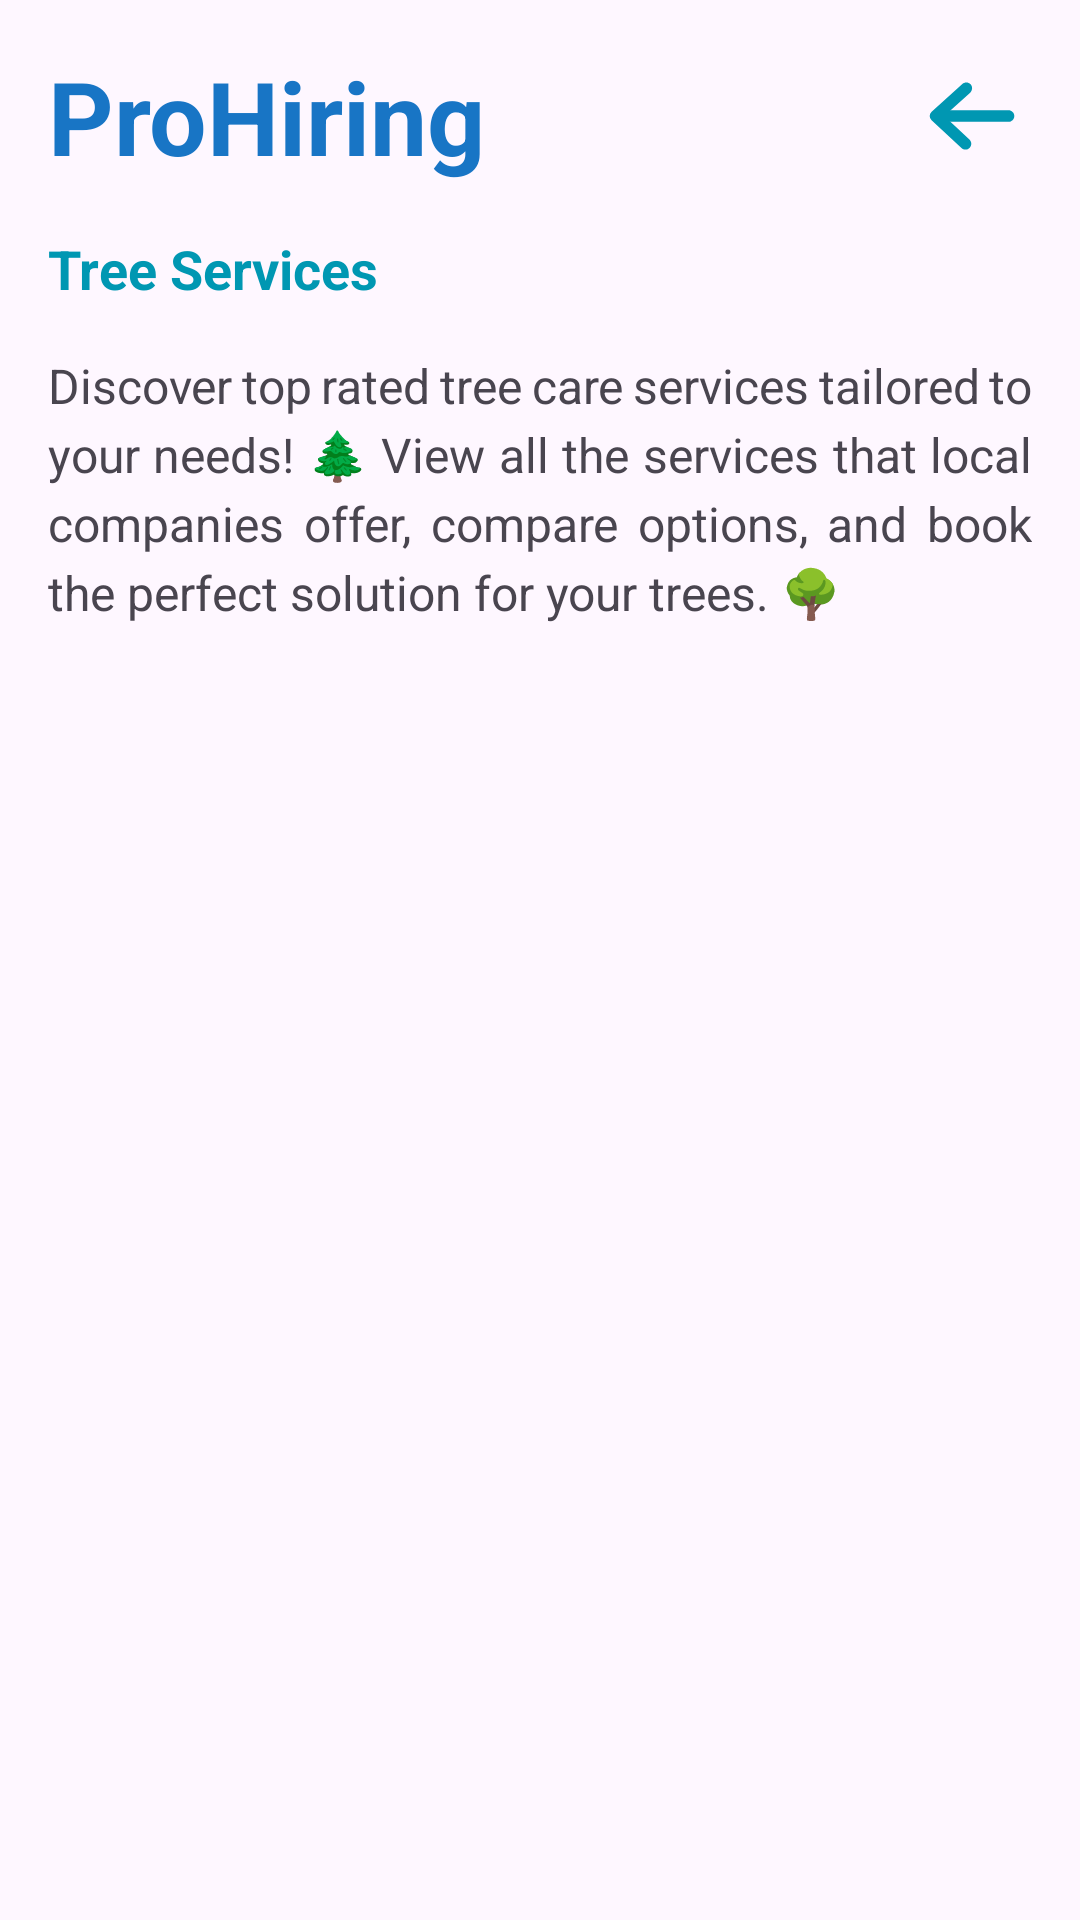

Icons on this 1080 × 1920 Android screen, each with the point to tap as point (x, y):
Back: point (972, 116)
